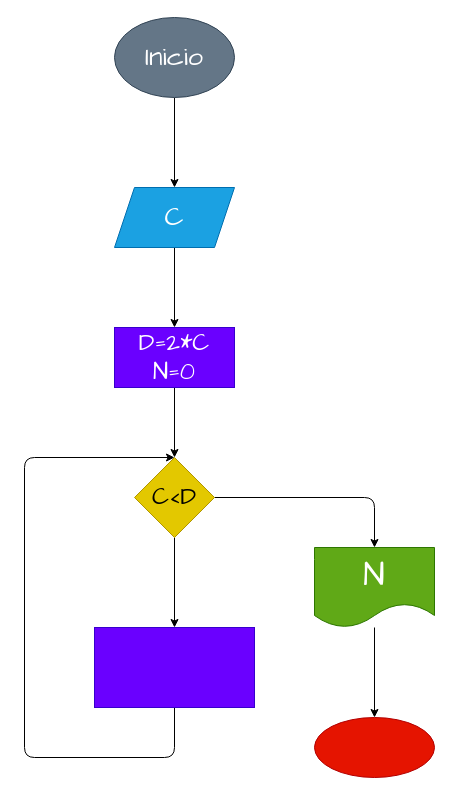
The diagram is 452 pixels wide and 795 high, and some of its shapes have lost their labels. Here are the shapes that lost their labels. From the top down, the centre of each, then its label:
point (174, 667): C=C+0.05*C N=N+1
point (374, 747): Fin
